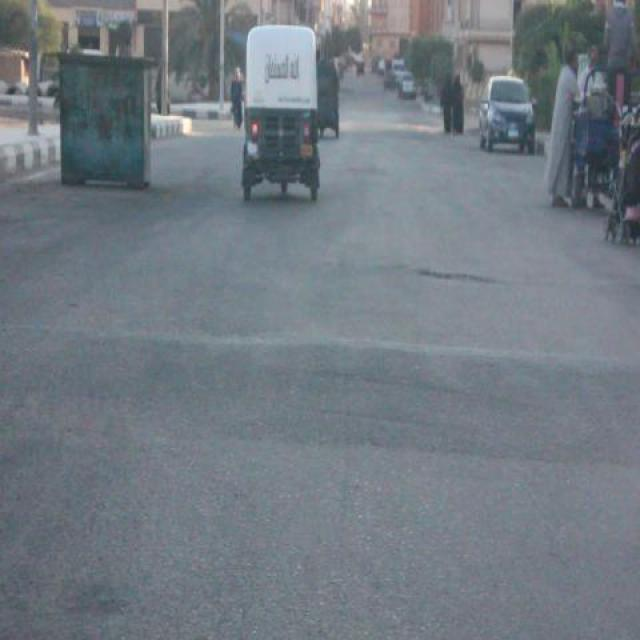Pothole: (404, 250, 500, 291)
Unmarked Bump: (0, 321, 640, 472)
